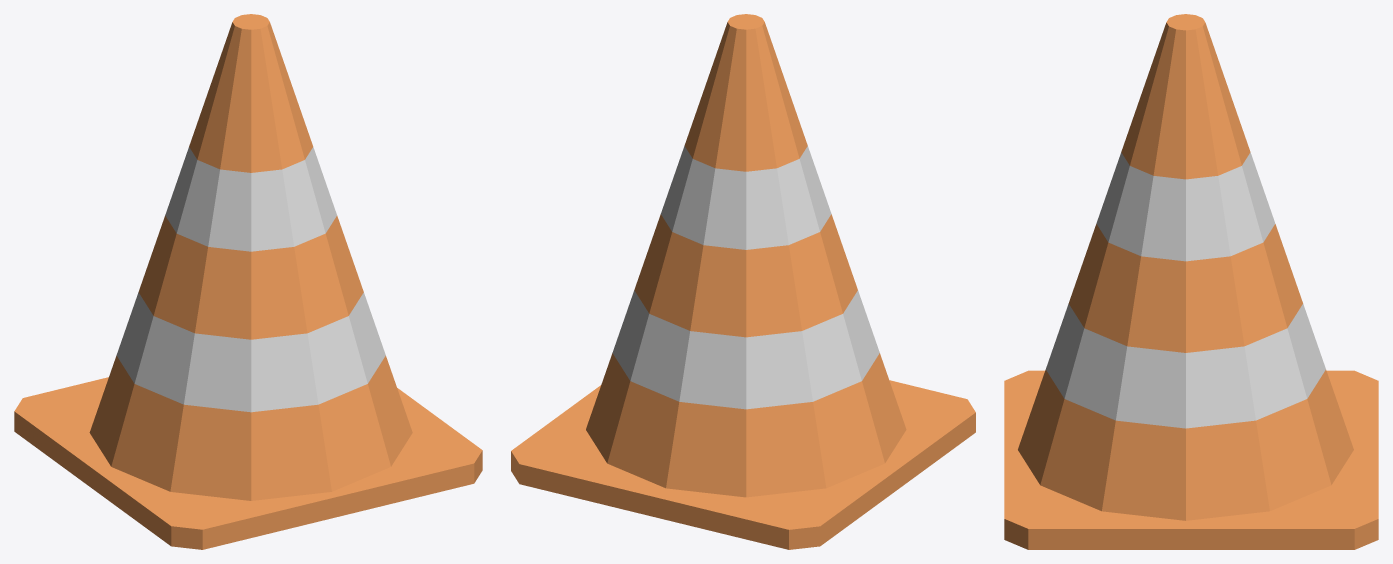
Rendered from Traffic Cone.fbx.
3 renders of one model, left to right at view 1: azimuth 30°, elevation 25°; view 2: azimuth 150°, elevation 25°; view 3: azimuth 270°, elevation 25°, orthographic. The views are drawn at different scales.
Visible parts, largest first — view 1: Circle; view 2: Circle; view 3: Circle.
Boxes of the visible parts, box(x1,y1,x2,y2) form: Circle: box(14, 14, 482, 549); Circle: box(511, 14, 975, 549); Circle: box(1004, 14, 1378, 549).
Size of the model in its own units: 70.98 by 93.88 by 70.98.
